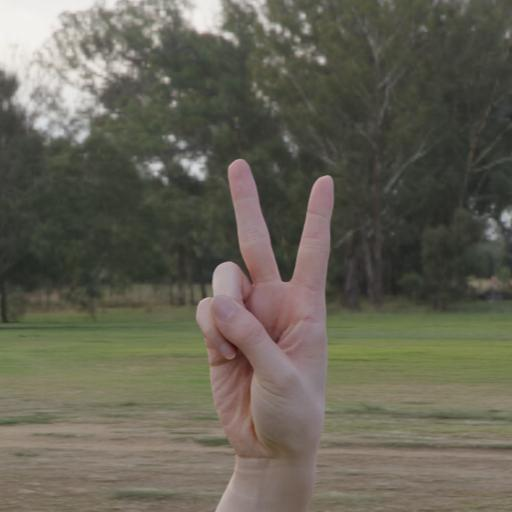V: (191, 144, 342, 478)
